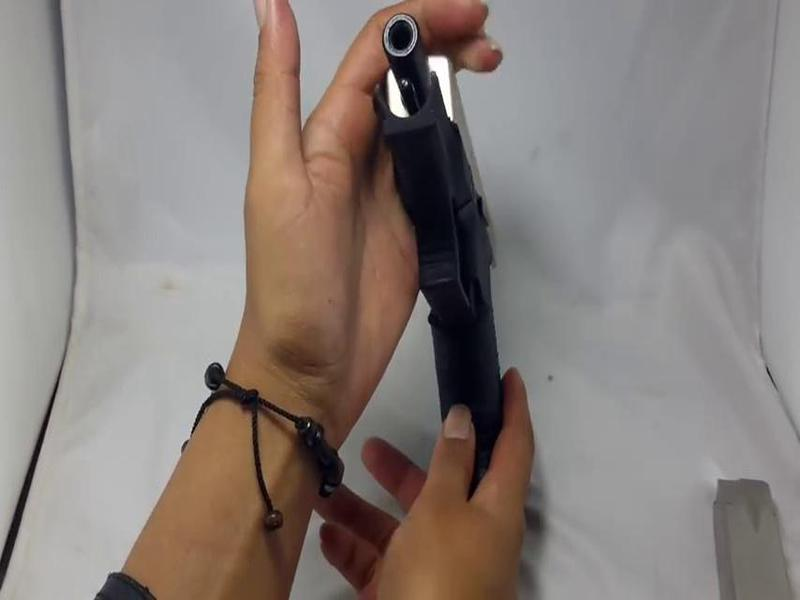Pistola: (350, 20, 557, 487)
